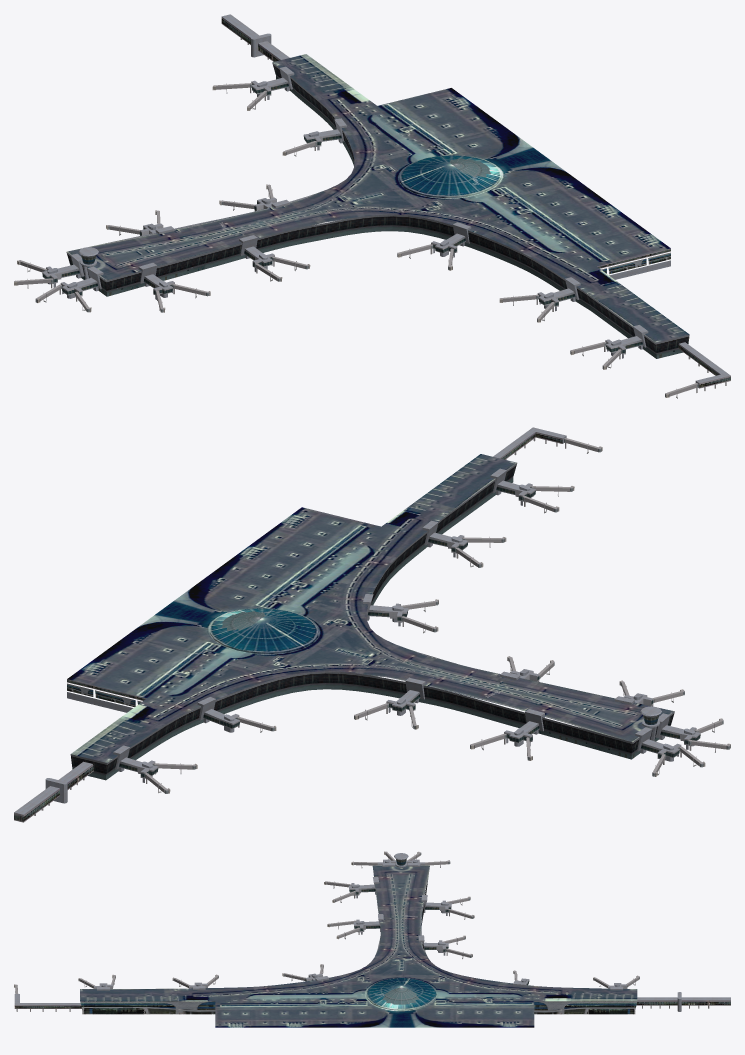
File: Terminal_D.fbx
The picture shows the model from 3 angles, top to bottom: view 1: azimuth 30°, elevation 25°; view 2: azimuth 150°, elevation 25°; view 3: azimuth 270°, elevation 25°; orthographic projection. The views are drawn at different scales.
Visible parts, largest first — view 1: Polygon7, Polygon1, Polygon2, Polygon5, Polygon6; view 2: Polygon7, Polygon1, Polygon2, Polygon5, Polygon6; view 3: Polygon7, Polygon2, Polygon5, Polygon6, Polygon3.
Part boxes in pixels (<box>): Polygon7: <box>66,54,689,342</box>; Polygon1: <box>66,63,689,358</box>; Polygon2: <box>42,14,730,388</box>; Polygon5: <box>14,38,726,398</box>; Polygon6: <box>42,81,642,354</box>; Polygon7: <box>67,454,674,762</box>; Polygon1: <box>70,463,674,780</box>; Polygon2: <box>14,427,700,822</box>; Polygon5: <box>34,438,730,815</box>; Polygon6: <box>119,484,700,778</box>; Polygon7: <box>80,865,637,1027</box>; Polygon2: <box>14,853,730,1014</box>; Polygon5: <box>14,851,709,1011</box>; Polygon6: <box>94,861,627,988</box>; Polygon3: <box>382,987,419,1004</box>.
Bounding box in the file's own units: 40853 × 2438 × 67419.
Materials: 8 (8 with a texture image).
